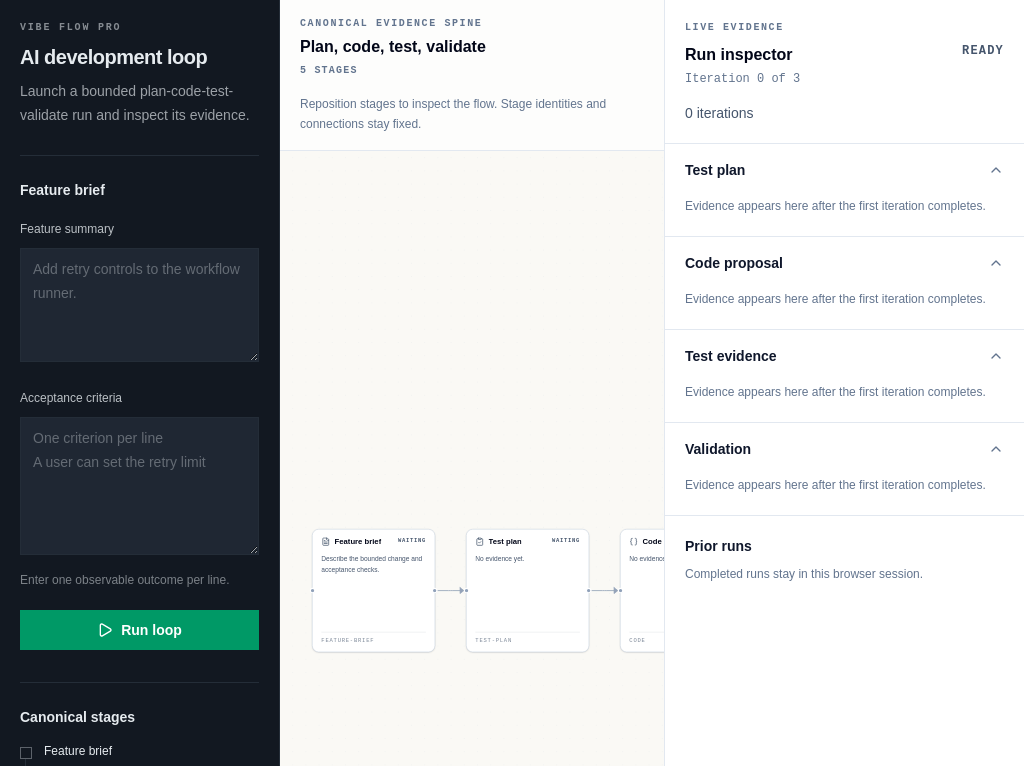
DevelopmentLoopWorkspace › shows iteration 1 and blocked provider guidance after a stage failure
In the text box labelled "Feature summary": (140, 305) [20,248,259,362], type "Add retry controls"
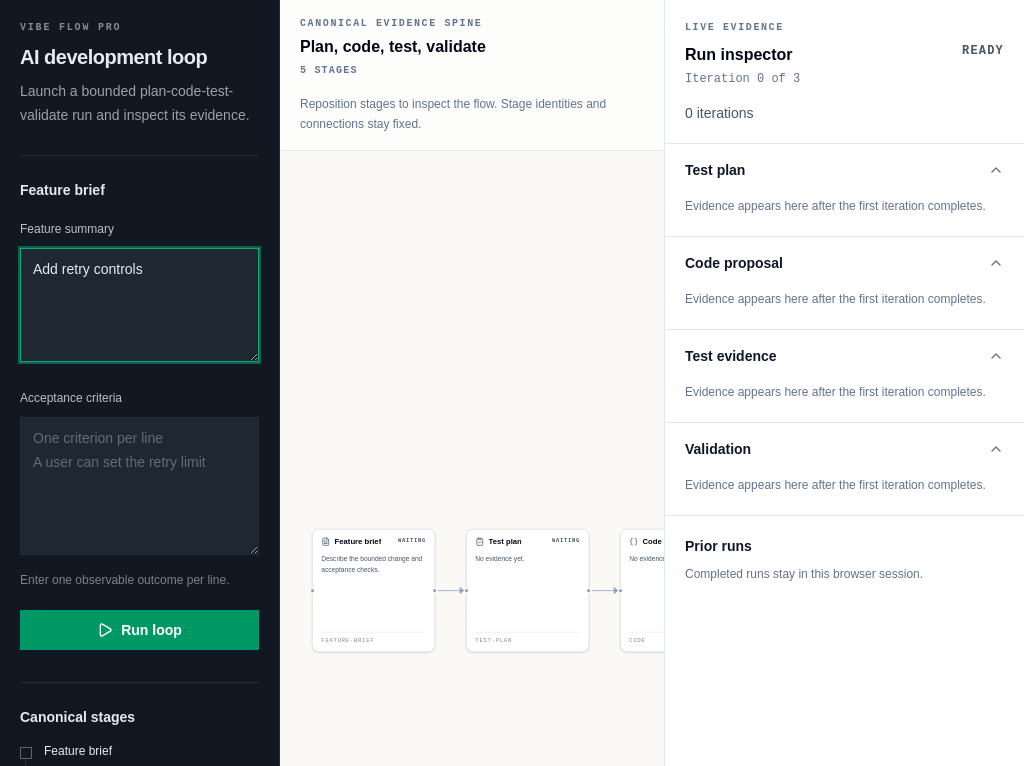
In the text box labelled "Acceptance criteria": (140, 486) [20,417,259,555], type "A user can set the retry limit"
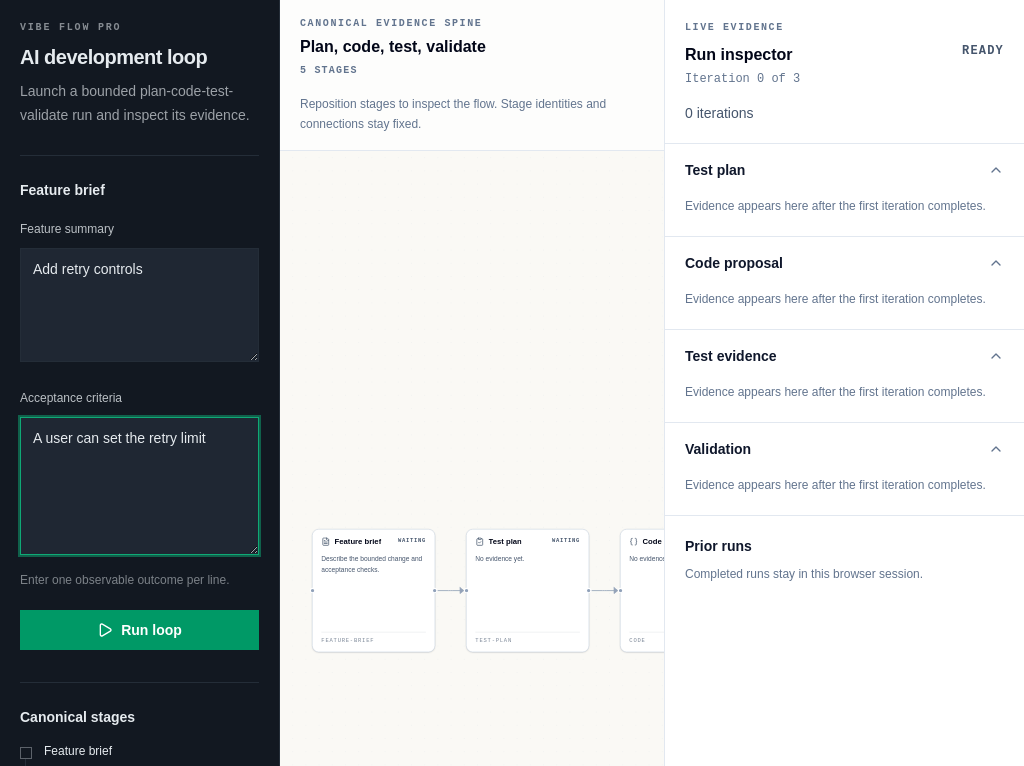
Click the button "Run loop": click(140, 630) [20,610,259,650]
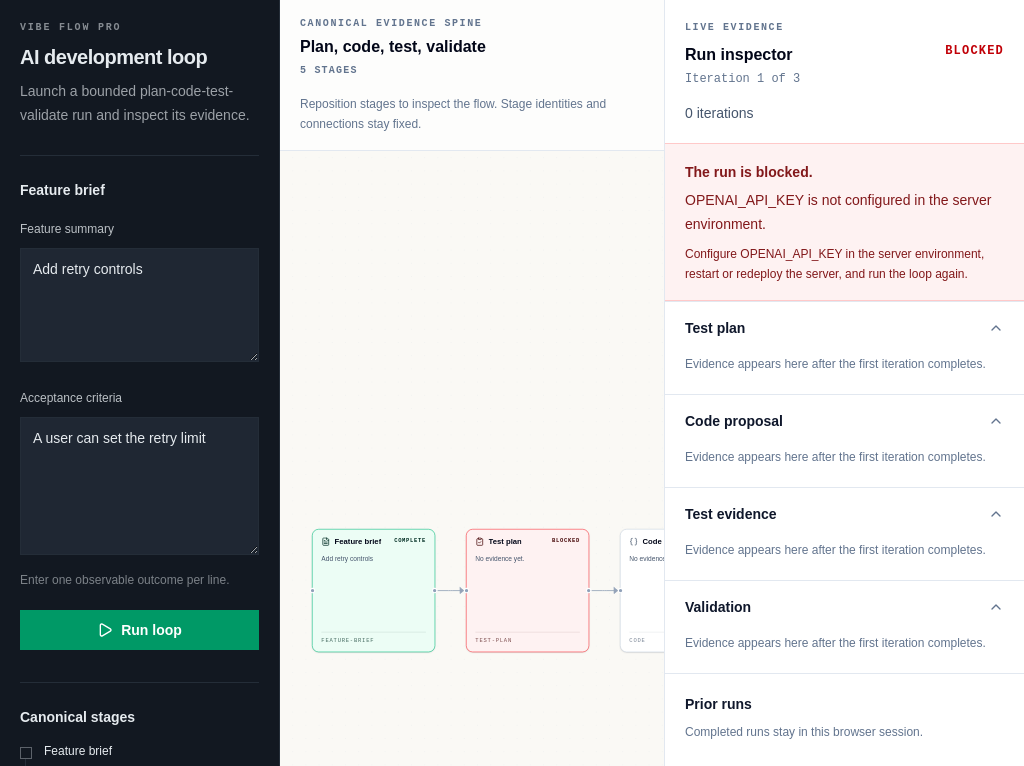
Expected: the text "The run is blocked." is shown, [685,164,813,180]
Expected: the text "Iteration 1 of 3" is shown, [685,71,800,87]
Expected: the text "Iteration 0 of 3" is gone
